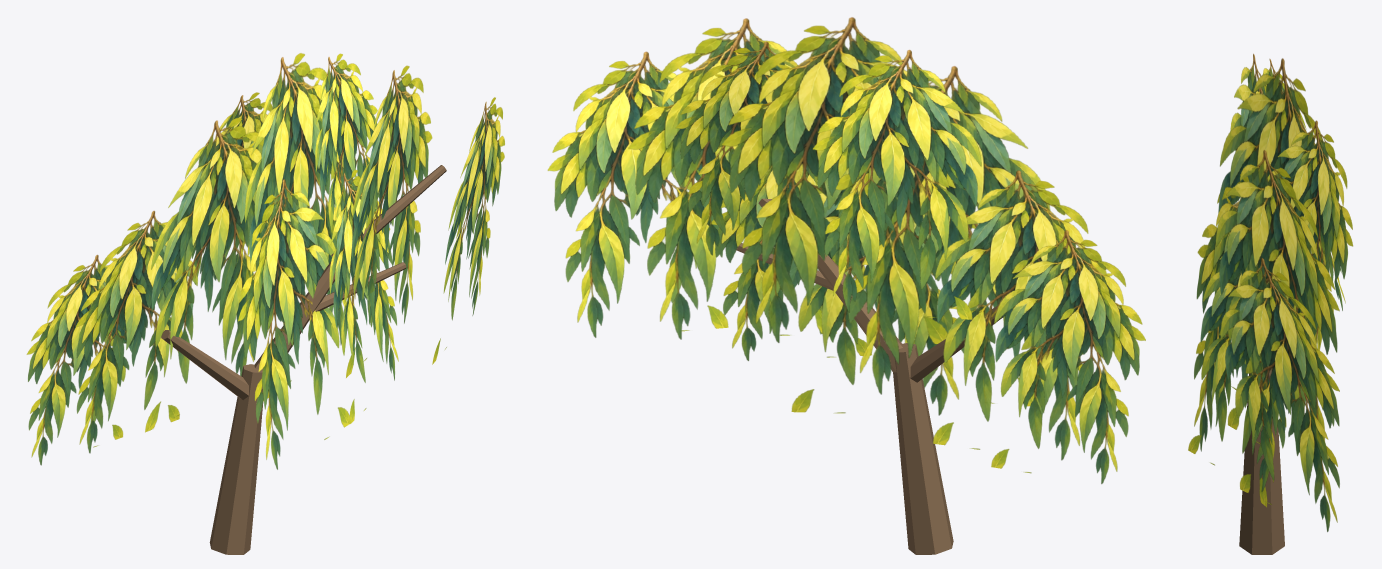
The model's file is TREE_COASTAL_WIND_001_SHAPE_SAFE_LOD_CLOSE.glb.
3 views of the same model, side by side, from view 1: azimuth 30°, elevation 25°; view 2: azimuth 150°, elevation 25°; view 3: azimuth 270°, elevation 25° (orthographic). The views are drawn at different scales.
Visible parts, largest first — view 1: GG_NATIVE_SHAPE_SAFE_CARD_01, GG_NATIVE_SHAPE_SAFE_CARD_05, GG_NATIVE_SHAPE_SAFE_CARD_00, GG_NATIVE_SHAPE_SAFE_CARD_03, GG_NATIVE_SHAPE_SAFE_CARD_02, GG_NATIVE_SHAPE_SAFE_CARD_08, GG_NATIVE_SHAPE_SAFE_CARD_09, GG_NATIVE_SHAPE_SAFE_CARD_04, GG_NATIVE_SHAPE_SAFE_CARD_07, GG_TREE_COASTAL_WIND_001_LOCKED_CARCASS_00, GG_NATIVE_SHAPE_SAFE_CARD_06, GG_TREE_COASTAL_WIND_001_LOCKED_CARCASS_03 (+2 smaller); view 2: GG_NATIVE_SHAPE_SAFE_CARD_06, GG_NATIVE_SHAPE_SAFE_CARD_02, GG_NATIVE_SHAPE_SAFE_CARD_08, GG_NATIVE_SHAPE_SAFE_CARD_04, GG_NATIVE_SHAPE_SAFE_CARD_00, GG_NATIVE_SHAPE_SAFE_CARD_01, GG_NATIVE_SHAPE_SAFE_CARD_03, GG_NATIVE_SHAPE_SAFE_CARD_07, GG_TREE_COASTAL_WIND_001_LOCKED_CARCASS_00, GG_NATIVE_SHAPE_SAFE_CARD_05, GG_NATIVE_SHAPE_SAFE_CARD_09, GG_TREE_COASTAL_WIND_001_LOCKED_CARCASS_01 (+1 smaller); view 3: GG_NATIVE_SHAPE_SAFE_CARD_04, GG_NATIVE_SHAPE_SAFE_CARD_03, GG_NATIVE_SHAPE_SAFE_CARD_02, GG_NATIVE_SHAPE_SAFE_CARD_07, GG_NATIVE_SHAPE_SAFE_CARD_09, GG_TREE_COASTAL_WIND_001_LOCKED_CARCASS_00, GG_NATIVE_SHAPE_SAFE_CARD_05, GG_NATIVE_SHAPE_SAFE_CARD_01, GG_NATIVE_SHAPE_SAFE_CARD_06.
Boxes of the visible parts, x1,y1,x2,y2 form: GG_NATIVE_SHAPE_SAFE_CARD_01: [145, 117, 280, 432]; GG_NATIVE_SHAPE_SAFE_CARD_05: [238, 179, 349, 469]; GG_NATIVE_SHAPE_SAFE_CARD_00: [75, 211, 197, 453]; GG_NATIVE_SHAPE_SAFE_CARD_03: [346, 65, 432, 377]; GG_NATIVE_SHAPE_SAFE_CARD_02: [244, 53, 349, 401]; GG_NATIVE_SHAPE_SAFE_CARD_08: [26, 254, 133, 465]; GG_NATIVE_SHAPE_SAFE_CARD_09: [329, 169, 398, 423]; GG_NATIVE_SHAPE_SAFE_CARD_04: [432, 97, 504, 364]; GG_NATIVE_SHAPE_SAFE_CARD_07: [315, 53, 385, 230]; GG_TREE_COASTAL_WIND_001_LOCKED_CARCASS_00: [209, 364, 263, 554]; GG_NATIVE_SHAPE_SAFE_CARD_06: [191, 92, 272, 284]; GG_TREE_COASTAL_WIND_001_LOCKED_CARCASS_03: [161, 330, 248, 399]; GG_NATIVE_SHAPE_SAFE_CARD_06: [812, 50, 981, 319]; GG_NATIVE_SHAPE_SAFE_CARD_02: [721, 17, 947, 343]; GG_NATIVE_SHAPE_SAFE_CARD_08: [991, 230, 1145, 483]; GG_NATIVE_SHAPE_SAFE_CARD_04: [547, 51, 728, 337]; GG_NATIVE_SHAPE_SAFE_CARD_00: [933, 170, 1106, 460]; GG_NATIVE_SHAPE_SAFE_CARD_01: [835, 66, 1050, 406]; GG_NATIVE_SHAPE_SAFE_CARD_03: [628, 18, 836, 339]; GG_NATIVE_SHAPE_SAFE_CARD_07: [675, 41, 817, 255]; GG_TREE_COASTAL_WIND_001_LOCKED_CARCASS_00: [893, 343, 953, 554]; GG_NATIVE_SHAPE_SAFE_CARD_05: [789, 188, 977, 415]; GG_NATIVE_SHAPE_SAFE_CARD_09: [710, 166, 871, 360]; GG_TREE_COASTAL_WIND_001_LOCKED_CARCASS_01: [817, 253, 902, 372]; GG_NATIVE_SHAPE_SAFE_CARD_04: [1220, 258, 1339, 531]; GG_NATIVE_SHAPE_SAFE_CARD_03: [1215, 150, 1339, 461]; GG_NATIVE_SHAPE_SAFE_CARD_02: [1218, 58, 1330, 424]; GG_NATIVE_SHAPE_SAFE_CARD_07: [1267, 120, 1353, 350]; GG_NATIVE_SHAPE_SAFE_CARD_09: [1188, 256, 1286, 491]; GG_TREE_COASTAL_WIND_001_LOCKED_CARCASS_00: [1239, 373, 1284, 554]; GG_NATIVE_SHAPE_SAFE_CARD_05: [1194, 174, 1267, 507]; GG_NATIVE_SHAPE_SAFE_CARD_01: [1230, 53, 1266, 130]; GG_NATIVE_SHAPE_SAFE_CARD_06: [1263, 59, 1345, 310].
Bounding box in the file's own units: 39.34 × 34.19 × 11.2.
2 materials, 1 textured.
